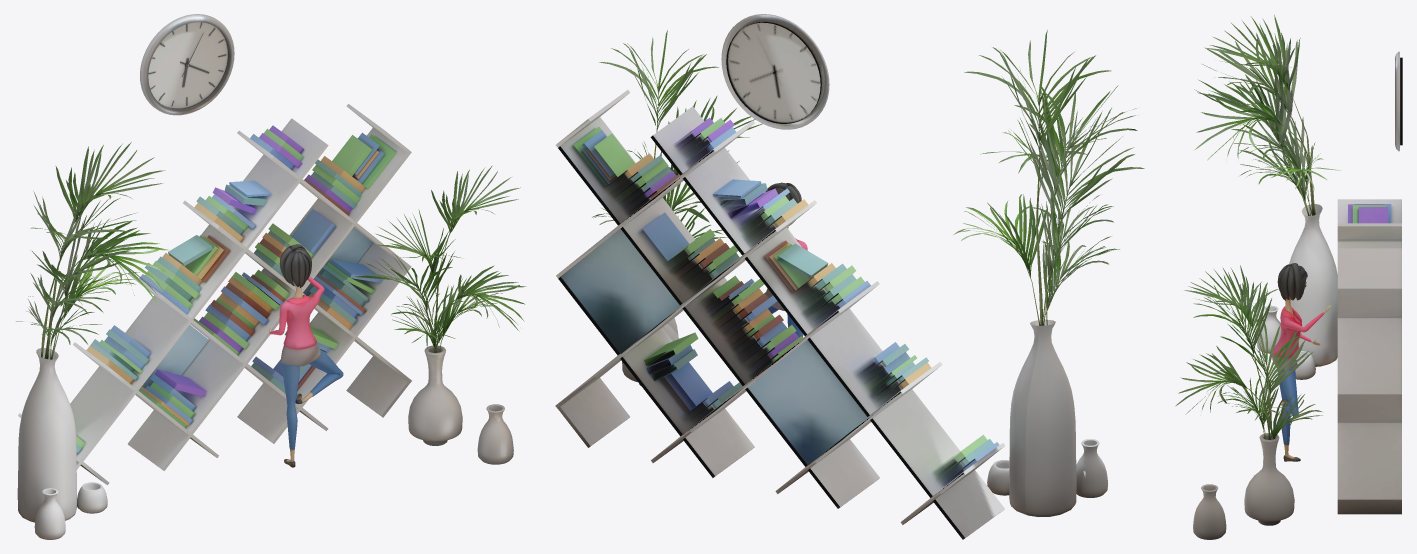
The model's file is Library.glb.
3 renders of one model, left to right at view 1: azimuth 30°, elevation 25°; view 2: azimuth 150°, elevation 25°; view 3: azimuth 270°, elevation 25°, orthographic. The views are drawn at different scales.
Visible parts, largest first — view 1: Tex_02_007, Tex_02_018, Tex_01.002, Tex_02_005, Tex_01.005, Tex_01.006, Tex_01.003, Tex_01.004; view 2: Tex_02_007, Tex_02_018, Tex_01.002, Tex_01.003, Tex_02_005, Tex_01.004; view 3: Tex_02_007, Tex_02_018, Tex_01.002, Tex_02_005, Tex_01.005, Tex_01.006, Tex_01.003, Tex_01.004.
Part boxes in pixels (x1=…): Tex_02_007: x1=18, y1=14, x2=411, y2=485; Tex_02_018: x1=16, y1=142, x2=526, y2=359; Tex_01.002: x1=17, y1=348, x2=76, y2=522; Tex_02_005: x1=269, y1=244, x2=343, y2=467; Tex_01.005: x1=408, y1=345, x2=462, y2=445; Tex_01.006: x1=477, y1=404, x2=513, y2=464; Tex_01.003: x1=34, y1=488, x2=65, y2=539; Tex_01.004: x1=77, y1=482, x2=107, y2=513; Tex_02_007: x1=555, y1=14, x2=1005, y2=539; Tex_02_018: x1=592, y1=30, x2=1144, y2=325; Tex_01.002: x1=1009, y1=319, x2=1076, y2=516; Tex_01.003: x1=1076, y1=439, x2=1107, y2=497; Tex_02_005: x1=765, y1=182, x2=807, y2=337; Tex_01.004: x1=987, y1=460, x2=1009, y2=495; Tex_02_007: x1=1337, y1=51, x2=1402, y2=514; Tex_02_018: x1=1175, y1=15, x2=1340, y2=439; Tex_01.002: x1=1285, y1=204, x2=1337, y2=366; Tex_02_005: x1=1272, y1=263, x2=1330, y2=461; Tex_01.005: x1=1244, y1=433, x2=1294, y2=525; Tex_01.006: x1=1193, y1=484, x2=1226, y2=539; Tex_01.003: x1=1256, y1=305, x2=1281, y2=353; Tex_01.004: x1=1295, y1=351, x2=1315, y2=379.
Size of the model in its own units: 587 by 487 by 262.
Materials: 2 (2 with a texture image).
